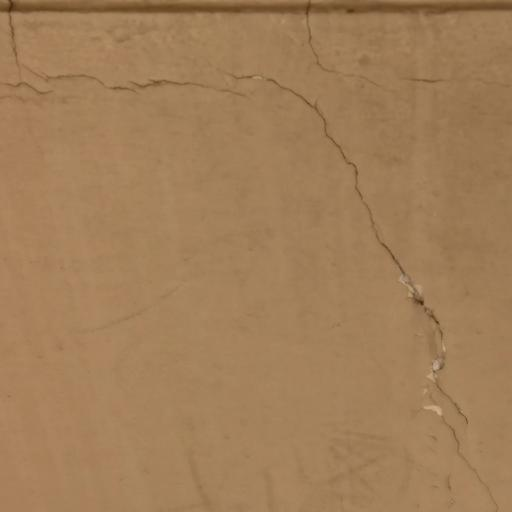minor_crack: (6, 6, 512, 512)
